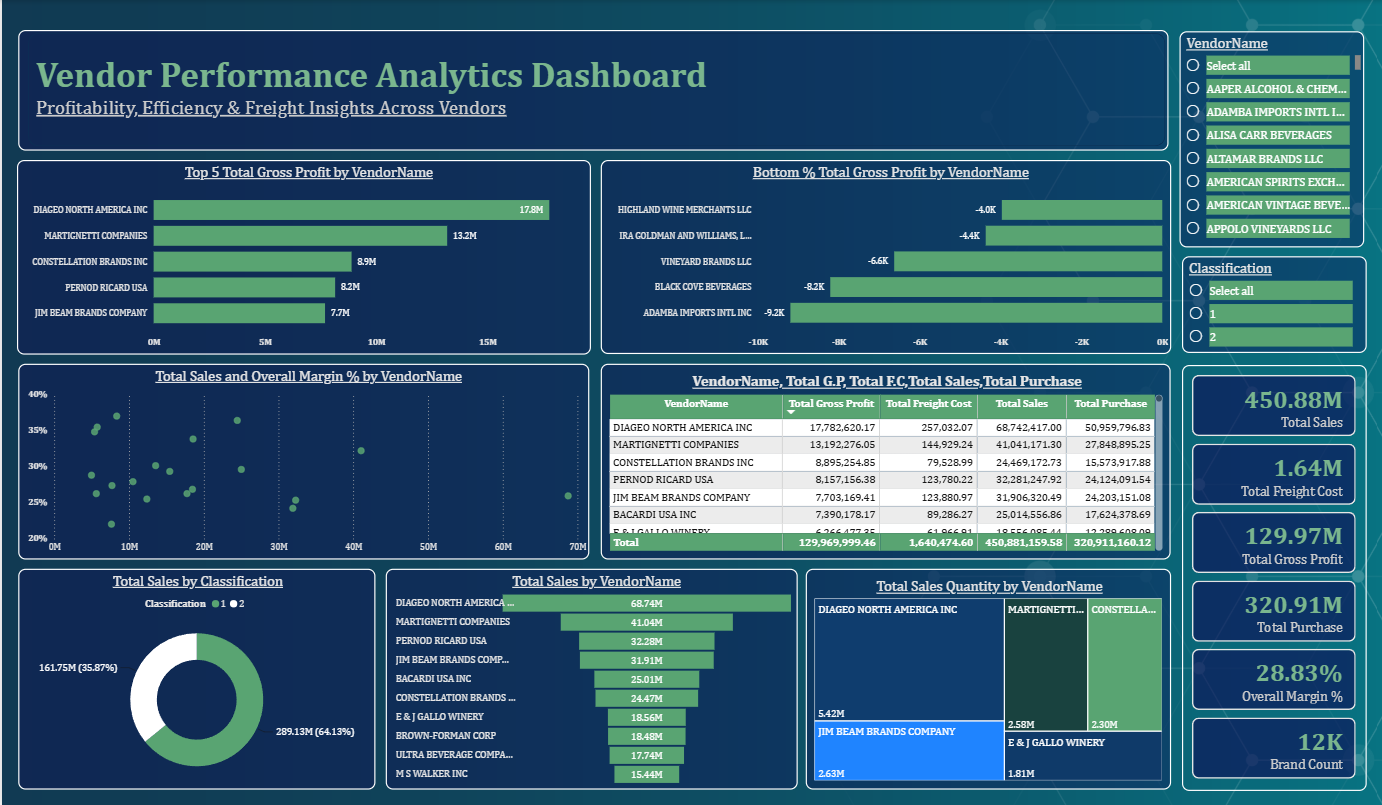

What the dashboard file says about the page in this screenshot:
{"tool":"powerbi","page":{"name":"Executive Summary","canvas":[1900,1110],"ordinal":0},"visuals":[{"type":"shape","box":[21.9,41.9,1579.2,165.5],"z":1000},{"type":"image","box":[22.3,42.9,1578.9,163],"z":1500},{"type":"textbox","box":[43.9,71.8,935.2,105.7],"z":2000},{"type":"cardVisual","fields":{"Data":["Measures (2).Total Sales","Measures (2).Total Freight Cost","Measures (2).Total Gross Profit","Measures (2).Total Purchase","Measures (2).Overall Margin %","Measures (2).Brand Count","Measures (2).Vendor Count"]},"box":[1620,273.1,255,811.7],"z":3000},{"type":"clusteredBarChart","title":"Top 5 Total Gross Profit by VendorName","fields":{"Category":["VendorSummaryFinal.VendorName"],"Y":["Measures (2).Total Gross Profit"]},"box":[21.4,219,788.2,267.4],"z":4000},{"type":"tableEx","title":"VendorName, Total G.P, Total F.C","fields":{"Values":["VendorSummaryFinal.VendorName","Measures (2).Total Gross Profit","Measures (2).Total Freight Cost"]},"box":[822.2,500,782.2,268.9],"z":5000},{"type":"scatterChart","fields":{"X":["Measures (2).Total Sales"],"Y":["Measures (2).Overall Margin %"],"Category":["VendorSummaryFinal.VendorName"]},"box":[21.9,500,784.3,268.6],"z":6000},{"type":"clusteredBarChart","title":"Bottom % Total Gross Profit by VendorName","fields":{"Category":["VendorSummaryFinal.VendorName"],"Y":["Measures (2).Total Gross Profit"]},"box":[822.3,219.6,783.3,266.7],"z":7000},{"type":"donutChart","fields":{"Y":["Measures (2).Total Sales"],"Category":["VendorSummaryFinal.Classification"]},"box":[21.9,781.5,490,302.9],"z":8000},{"type":"funnel","fields":{"Category":["VendorSummaryFinal.VendorName"],"Y":["Measures (2).Total Sales"]},"box":[526.2,781.5,565.7,302.9],"z":9000},{"type":"treemap","fields":{"Group":["VendorSummaryFinal.VendorName"],"Values":["Measures (2).Total Sales Quantity"]},"box":[1103.3,781.5,501.4,302.9],"z":10000},{"type":"listSlicer","fields":{"Values":["VendorSummaryFinal.VendorName"]},"box":[1616.6,43.1,255,98.3],"z":11000},{"type":"listSlicer","fields":{"Values":["VendorSummaryFinal.Classification"]},"box":[1618.3,156.5,255,98.3],"z":12000}]}

Visuals, with their boxes in screenshot pixels (x1, y1, x2, y2), scaled from the page's 1900x1110 canvas onto the 1382x805 screenshot:
shape: locate(16, 30, 1165, 150)
image: locate(16, 31, 1165, 149)
textbox: locate(32, 52, 712, 129)
cardVisual - Measures (2).Total Sales x Measures (2).Total Freight Cost: locate(1178, 198, 1364, 787)
"Top 5 Total Gross Profit by VendorName" clusteredBarChart: locate(16, 159, 589, 353)
"VendorName, Total G.P, Total F.C" tableEx: locate(598, 363, 1167, 558)
scatterChart - Measures (2).Total Sales x Measures (2).Overall Margin %: locate(16, 363, 586, 557)
"Bottom % Total Gross Profit by VendorName" clusteredBarChart: locate(598, 159, 1168, 353)
donutChart - Measures (2).Total Sales x VendorSummaryFinal.Classification: locate(16, 567, 372, 786)
funnel - VendorSummaryFinal.VendorName x Measures (2).Total Sales: locate(383, 567, 794, 786)
treemap - VendorSummaryFinal.VendorName x Measures (2).Total Sales Quantity: locate(803, 567, 1167, 786)
listSlicer - VendorSummaryFinal.VendorName: locate(1176, 31, 1361, 103)
listSlicer - VendorSummaryFinal.Classification: locate(1177, 113, 1363, 185)
